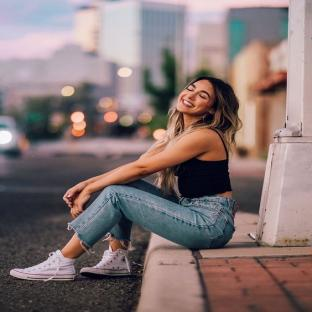Human: (11, 77, 242, 281)
